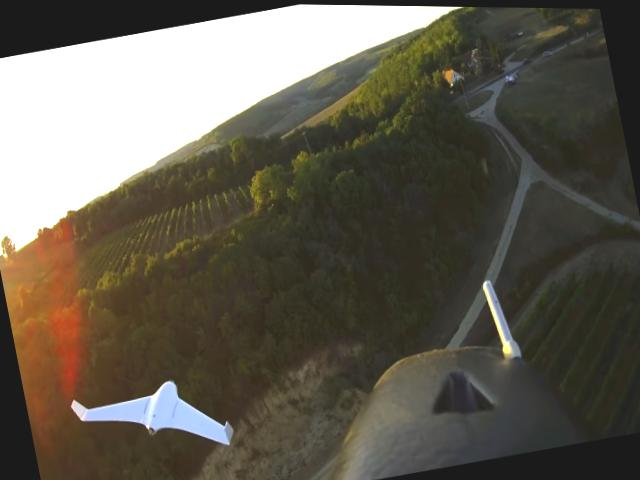plane: (70, 369, 236, 474)
